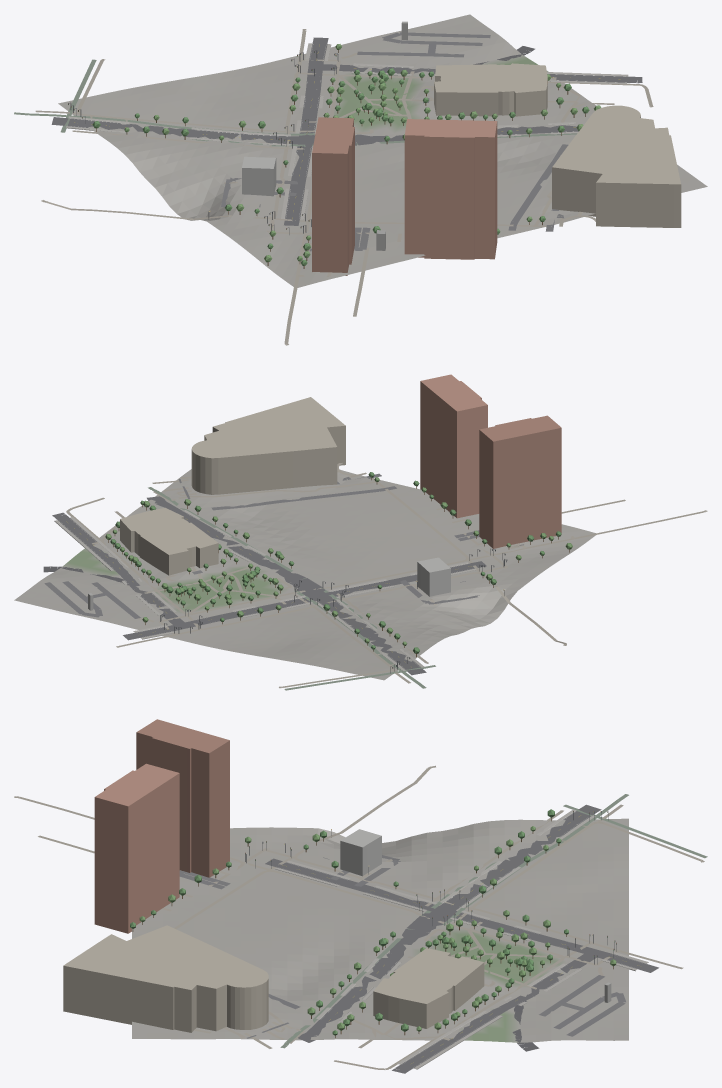
The model's file is tile_-4_3.glb.
3 views of the same model, one above another, from view 1: azimuth 30°, elevation 25°; view 2: azimuth 150°, elevation 25°; view 3: azimuth 270°, elevation 25° (orthographic). The views are drawn at different scales.
Visible parts, largest first — view 1: terrain, buildings, roads, paths, props, sidewalks; view 2: terrain, buildings, roads, paths, props, sidewalks; view 3: terrain, buildings, roads, paths, props, sidewalks.
Part boxes in pixels (bbox=[...]): terrain: bbox=[58, 14, 707, 287]; buildings: bbox=[242, 21, 681, 275]; roads: bbox=[51, 32, 642, 251]; paths: bbox=[14, 29, 653, 345]; props: bbox=[68, 44, 601, 268]; sidewalks: bbox=[66, 43, 628, 219]; terrain: bbox=[14, 469, 595, 680]; buildings: bbox=[88, 374, 561, 610]; roads: bbox=[43, 473, 523, 675]; paths: bbox=[66, 463, 707, 690]; props: bbox=[105, 472, 572, 673]; sidewalks: bbox=[54, 510, 476, 670]; terrain: bbox=[132, 818, 628, 1042]; buildings: bbox=[63, 719, 611, 1032]; roads: bbox=[179, 804, 658, 1073]; paths: bbox=[14, 765, 707, 1069]; props: bbox=[130, 809, 616, 1037]; sidewalks: bbox=[275, 809, 648, 1069].
Bounding box in the file's own units: 365 × 78.84 × 357.
